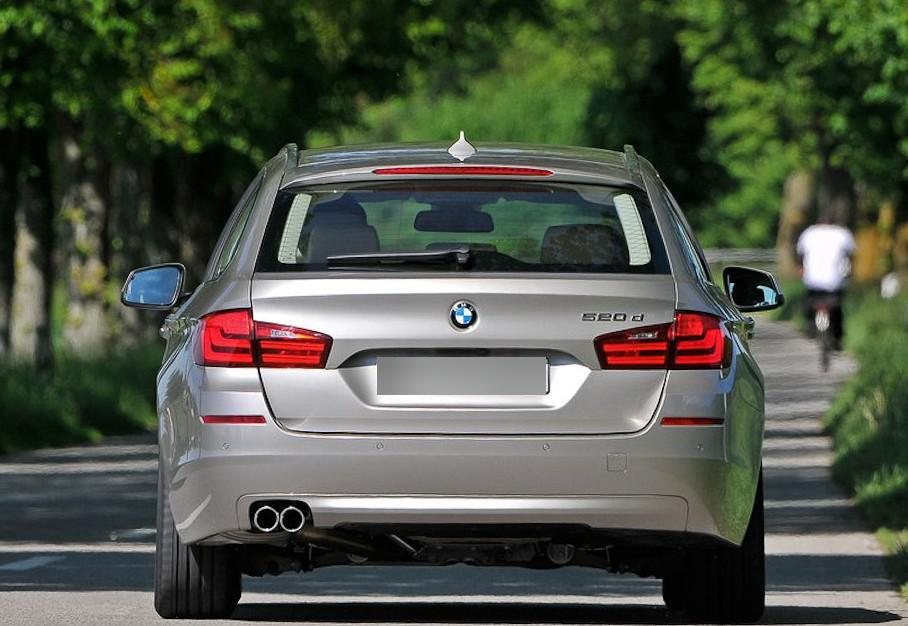Wagon: (120, 130, 788, 619)
